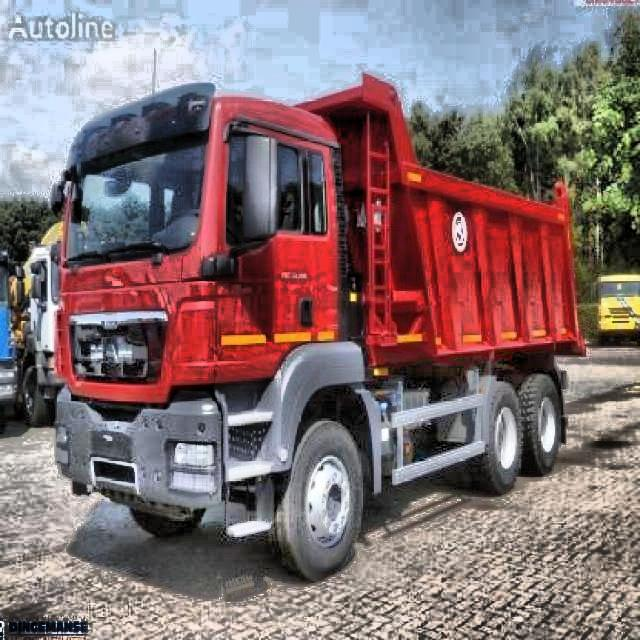dump_truck: (40, 68, 589, 585), (594, 256, 640, 356)
